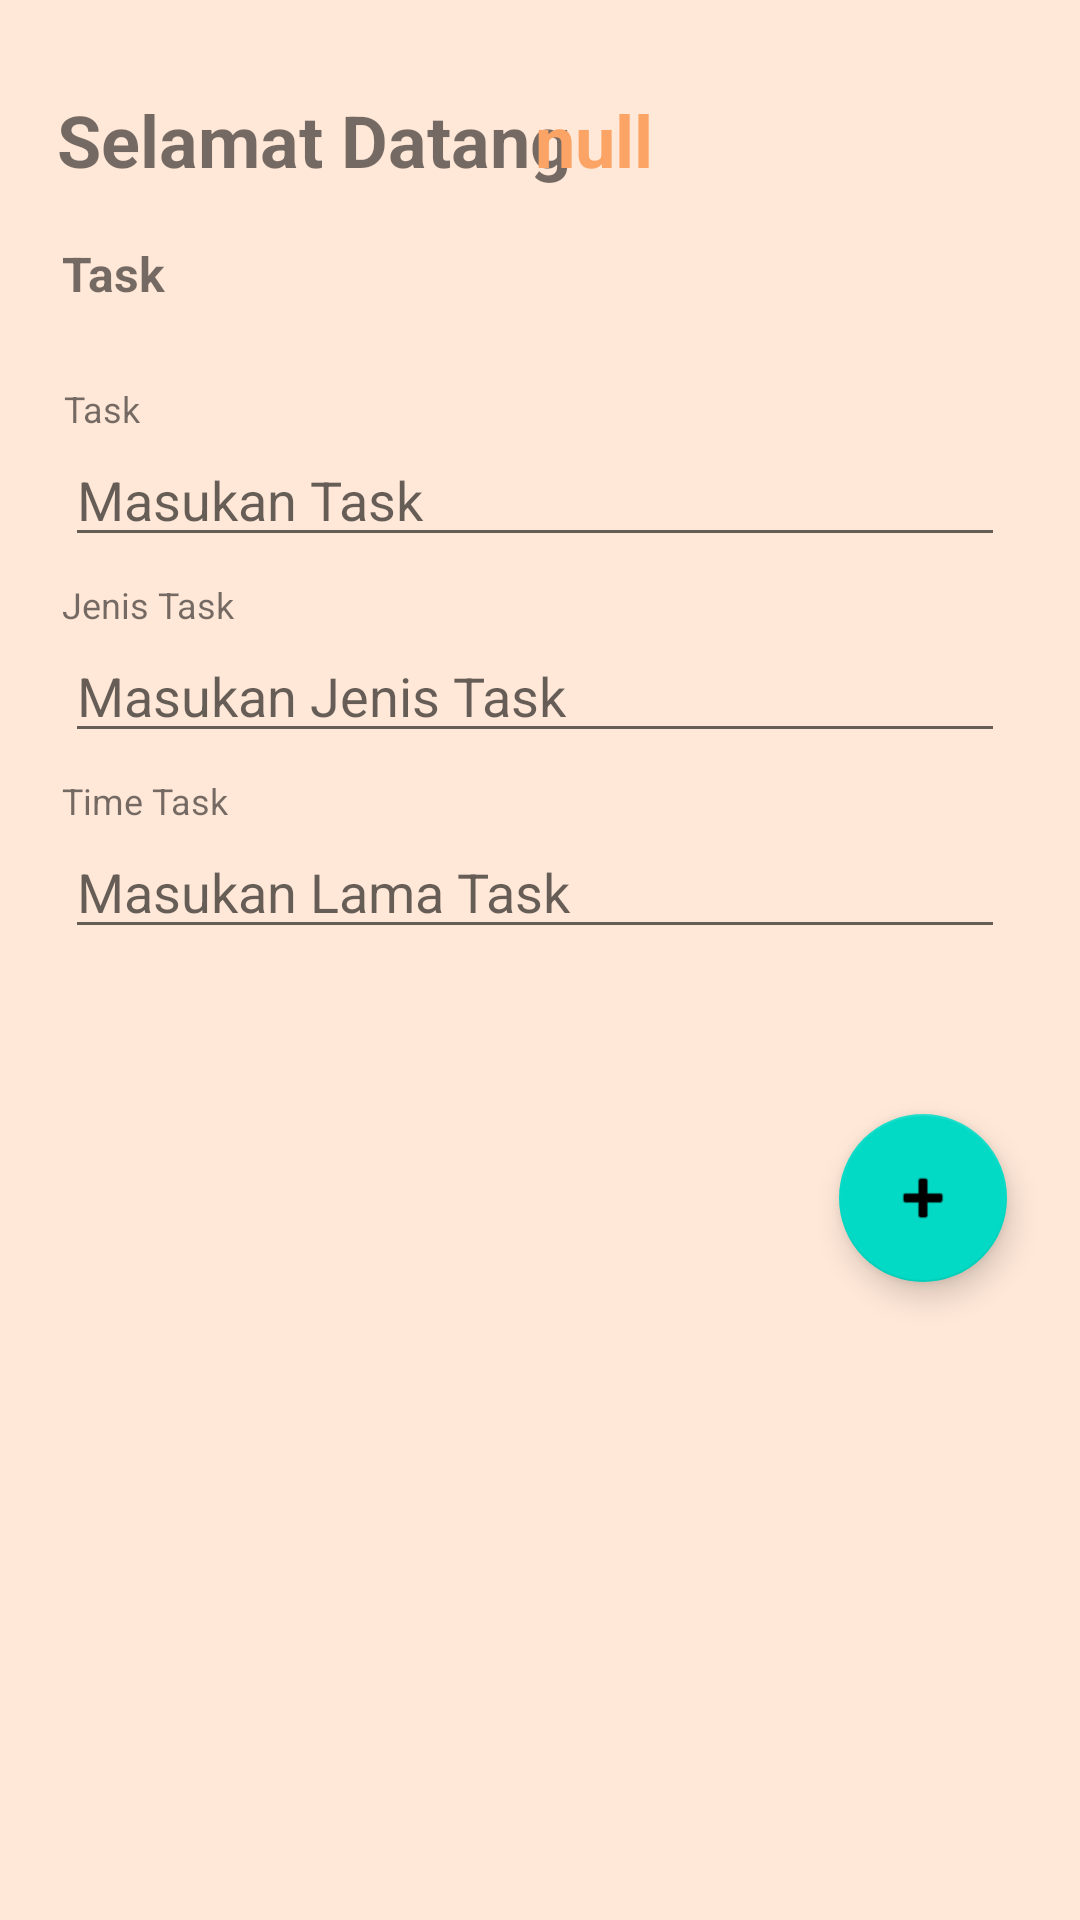

Icons on this 1080w x 1920h Android screen, each with the point to tap as (x=x, y=y):
add: (x=923, y=1198)
